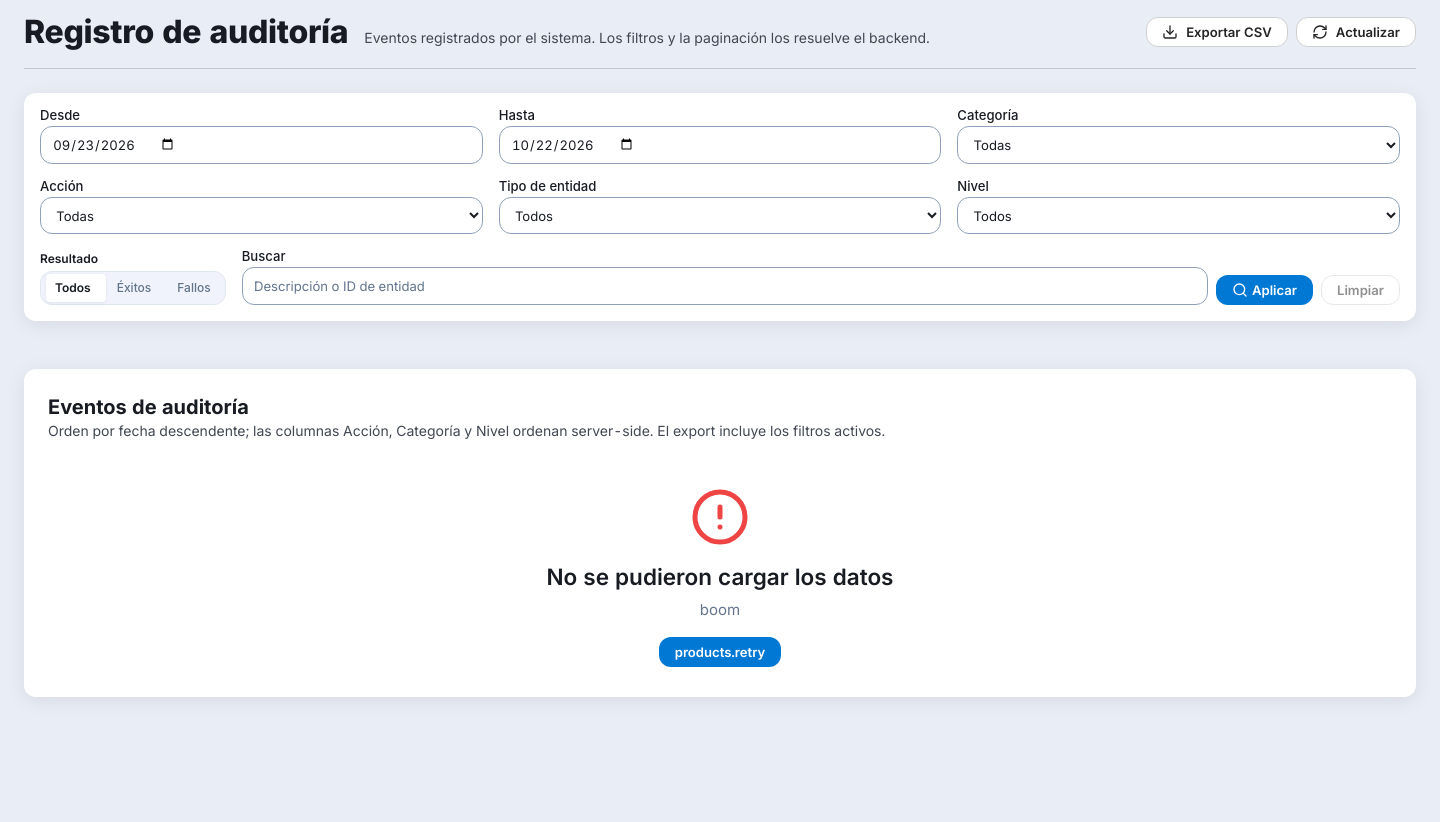
Test case: AuditLogsPage (F10) › error del endpoint: estado con retry y sin tabla vacía silenciosa
Expected: the element with test id "error-state" is shown, [546,487,893,667]
Click the button with test id "error-retry": click(720, 652) [659,637,781,667]
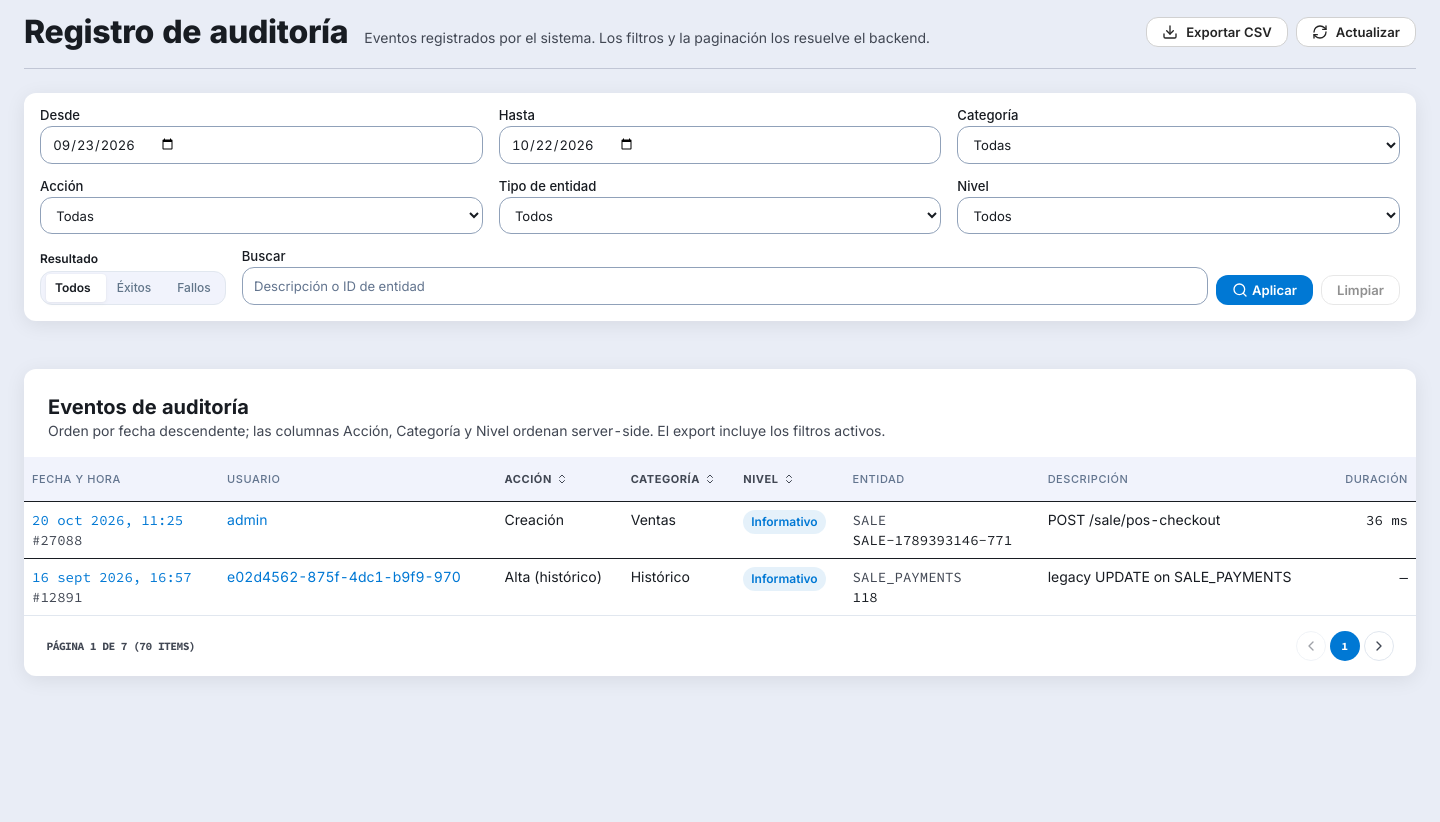
Result: the table with test id "audit-logs-table" is shown at [24,457,1416,615]
